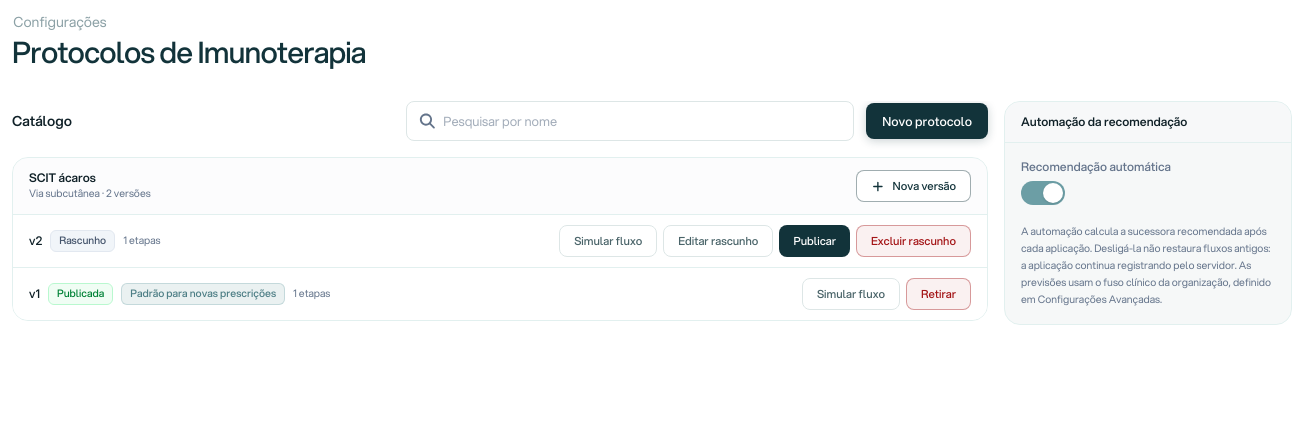
Test: decisão por código de erro › conflito de revisão com mensagem humanizada entra no ramo correto
Click the switch named "recomendação automática" at (1043, 193), box top-left (1021, 181), bottom-right (1065, 205)
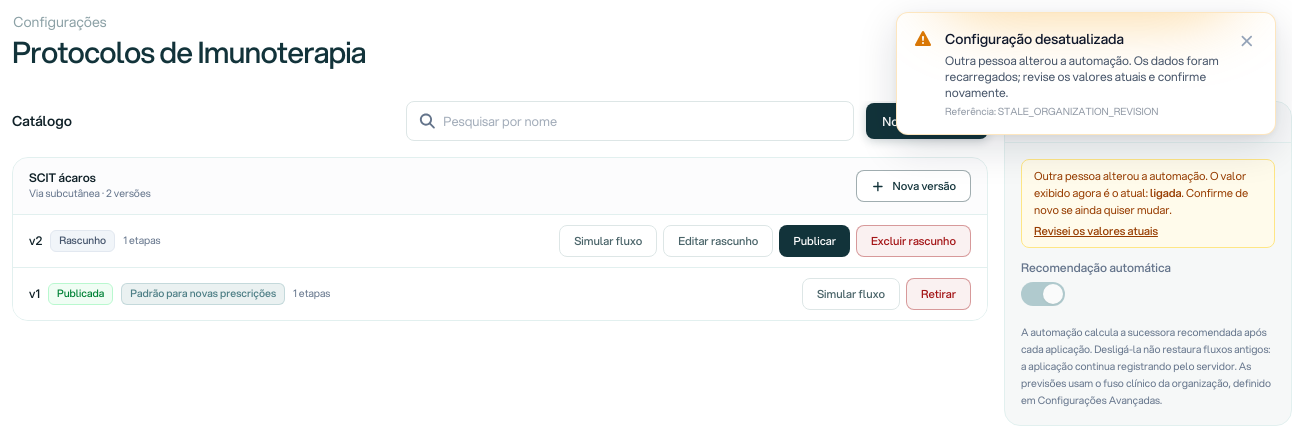
Result: the button "Revisei os valores atuais" is shown
Result: the switch named "recomendação automática" is disabled at top-left (1021, 282), bottom-right (1065, 306)
Result: the text "Configuração desatualizada" is shown at top-left (945, 29), bottom-right (1124, 49)
Click the button "Revisei os valores atuais" at (1096, 231), box top-left (1034, 222), bottom-right (1158, 239)
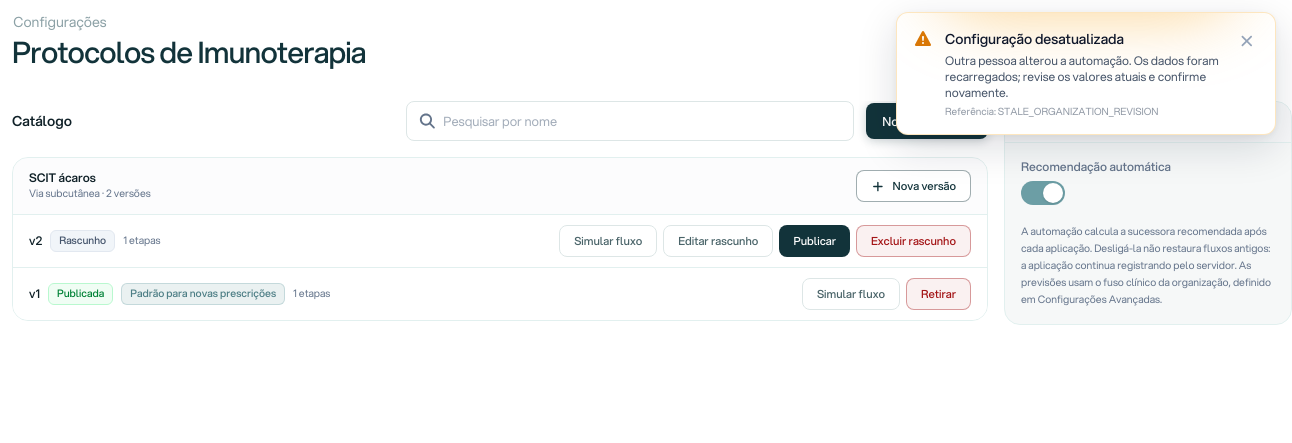
Result: the switch named "recomendação automática" is enabled at top-left (1021, 181), bottom-right (1065, 205)
